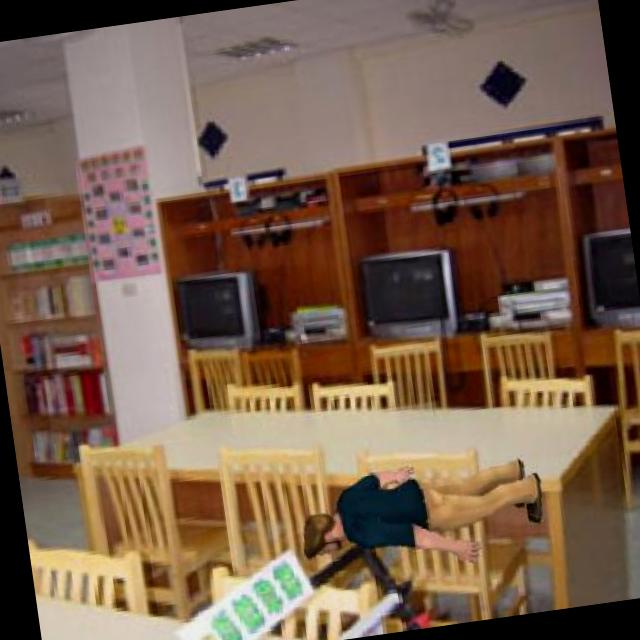Person: (286, 442, 556, 592)
